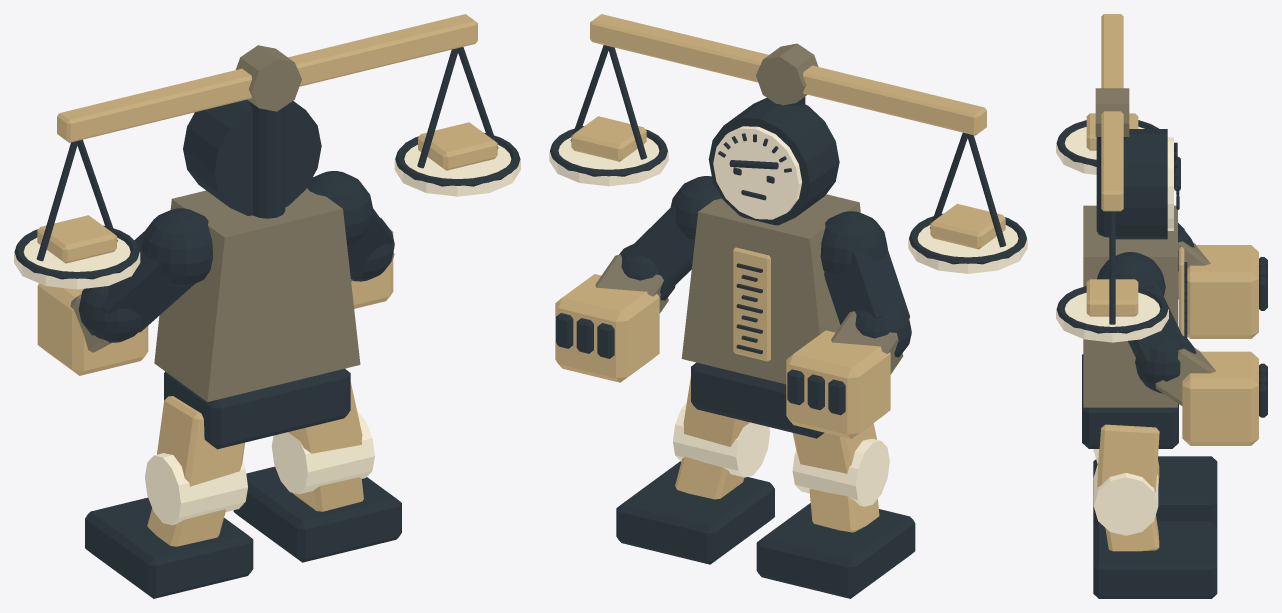
3 renders of one model, left to right at view 1: azimuth 30°, elevation 25°; view 2: azimuth 150°, elevation 25°; view 3: azimuth 270°, elevation 25°, orthographic. The views are drawn at different scales.
Parts seen in each view (by area): view 1: scale_column, scale_crossbeam, left_shoe, dial_head, right_shoe, weight_pelvis, left_counterweight_fist, left_knee_pin, left_shoulder_joint, right_knee_pin, left_thigh, scale_spine (+20 smaller); view 2: scale_column, scale_crossbeam, right_shoe, left_shoe, left_counterweight_fist, right_counterweight_fist, dial_head, dial_face, weight_pelvis, left_upper_arm, left_knee_pin, calibration_panel (+23 smaller); view 3: right_shoe, scale_column, right_counterweight_fist, left_counterweight_fist, dial_head, left_shoe, scale_crossbeam, right_knee_pin, right_thigh, weight_pelvis, right_weighing_pan, right_paper_stack (+17 smaller).
Part boxes in pixels (bbox=[...]): scale_column: bbox=[154, 188, 360, 401]; scale_crossbeam: bbox=[57, 14, 477, 142]; left_shoe: bbox=[85, 497, 253, 598]; dial_head: bbox=[183, 99, 321, 215]; right_shoe: bbox=[233, 466, 401, 562]; weight_pelvis: bbox=[164, 368, 350, 449]; left_counterweight_fist: bbox=[37, 283, 148, 375]; left_knee_pin: bbox=[145, 453, 247, 525]; left_shoulder_joint: bbox=[142, 208, 212, 286]; right_knee_pin: bbox=[271, 411, 374, 494]; left_thigh: bbox=[157, 396, 244, 486]; scale_spine: bbox=[249, 102, 285, 218]; scale_column: bbox=[681, 194, 860, 384]; scale_crossbeam: bbox=[590, 14, 986, 135]; right_shoe: bbox=[616, 461, 774, 564]; left_shoe: bbox=[756, 503, 915, 598]; left_counterweight_fist: bbox=[786, 330, 890, 438]; right_counterweight_fist: bbox=[555, 274, 659, 382]; dial_head: bbox=[708, 98, 839, 225]; dial_face: bbox=[713, 126, 802, 219]; weight_pelvis: bbox=[691, 362, 824, 438]; left_upper_arm: bbox=[824, 249, 909, 324]; left_knee_pin: bbox=[792, 438, 889, 506]; calibration_panel: bbox=[733, 247, 770, 361]; right_shoe: bbox=[1093, 521, 1217, 598]; scale_column: bbox=[1083, 205, 1177, 407]; right_counterweight_fist: bbox=[1182, 351, 1258, 445]; left_counterweight_fist: bbox=[1187, 245, 1258, 338]; dial_head: bbox=[1115, 129, 1167, 239]; left_shoe: bbox=[1093, 456, 1217, 525]; scale_crossbeam: bbox=[1101, 14, 1123, 211]; right_knee_pin: bbox=[1093, 464, 1158, 535]; right_thigh: bbox=[1097, 424, 1159, 492]; weight_pelvis: bbox=[1082, 354, 1178, 448]; right_weighing_pan: bbox=[1056, 292, 1168, 342]; right_paper_stack: bbox=[1086, 279, 1138, 316].
Bounding box in the file's own units: 2.24 × 2.23 × 0.9385.
